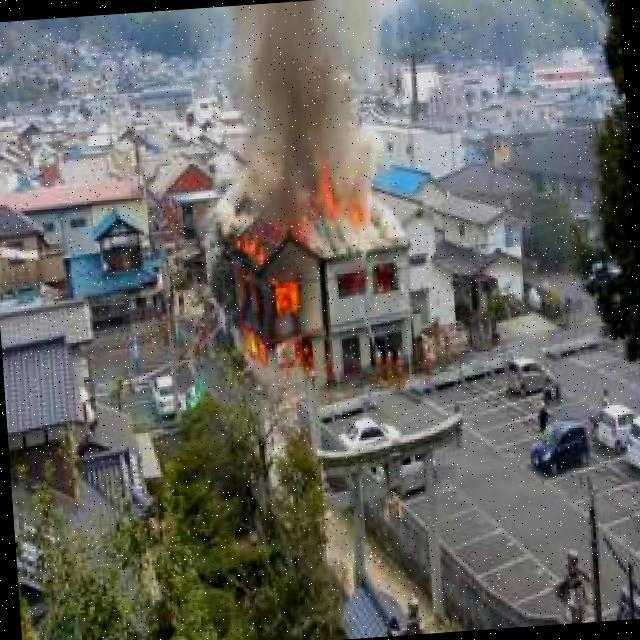Fire: (227, 221, 314, 378), (321, 177, 371, 230)
